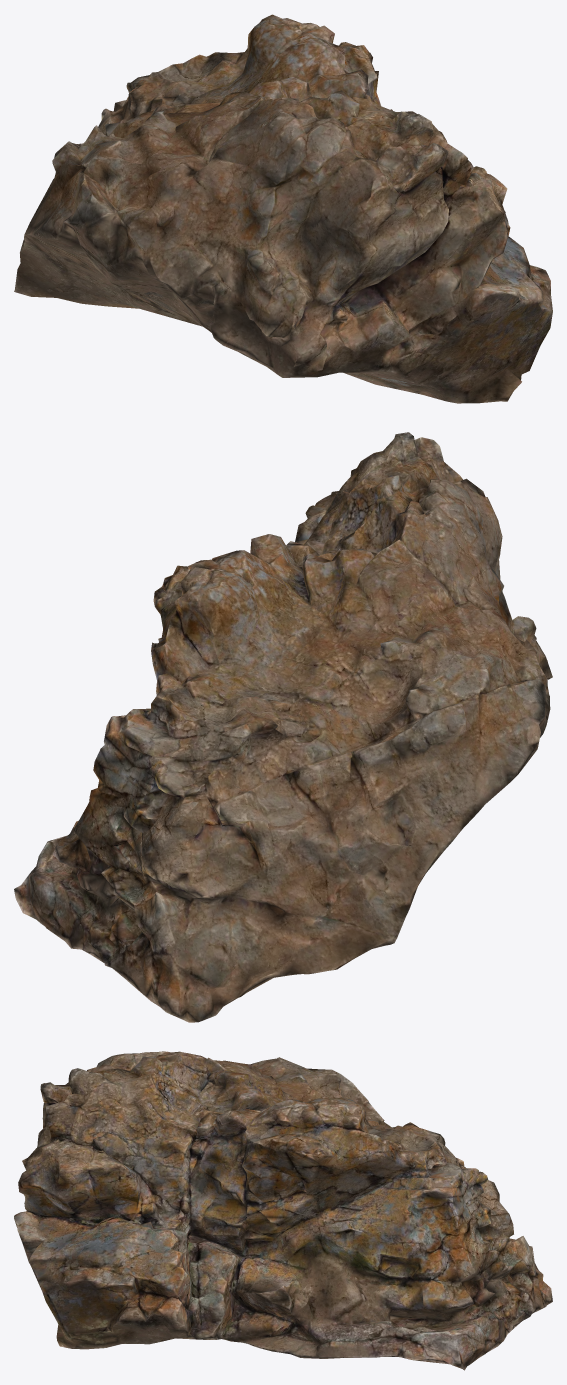
Rendered from pbr-boulder-01.glb.
3 renders of one model, top to bottom at view 1: azimuth 30°, elevation 25°; view 2: azimuth 150°, elevation 25°; view 3: azimuth 270°, elevation 25°, orthographic. The views are drawn at different scales.
Visible parts, largest first — view 1: boulder_01; view 2: boulder_01; view 3: boulder_01.
Boxes of the visible parts, bbox=[...] form: boulder_01: bbox=[14, 14, 552, 403]; boulder_01: bbox=[14, 432, 552, 1022]; boulder_01: bbox=[14, 1051, 552, 1370].
Bounding box in the file's own units: 1.27 × 0.998 × 1.82.
Materials: 1 (1 with a texture image).
